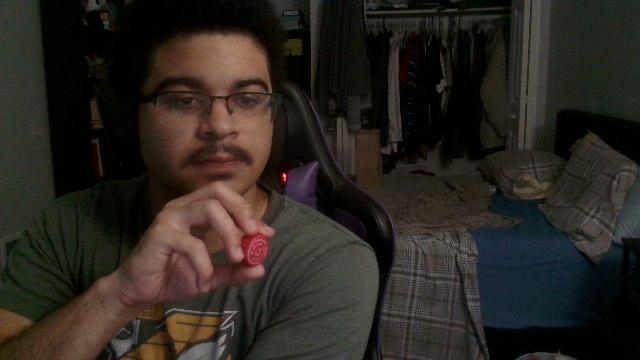cap: (238, 232, 268, 268)
